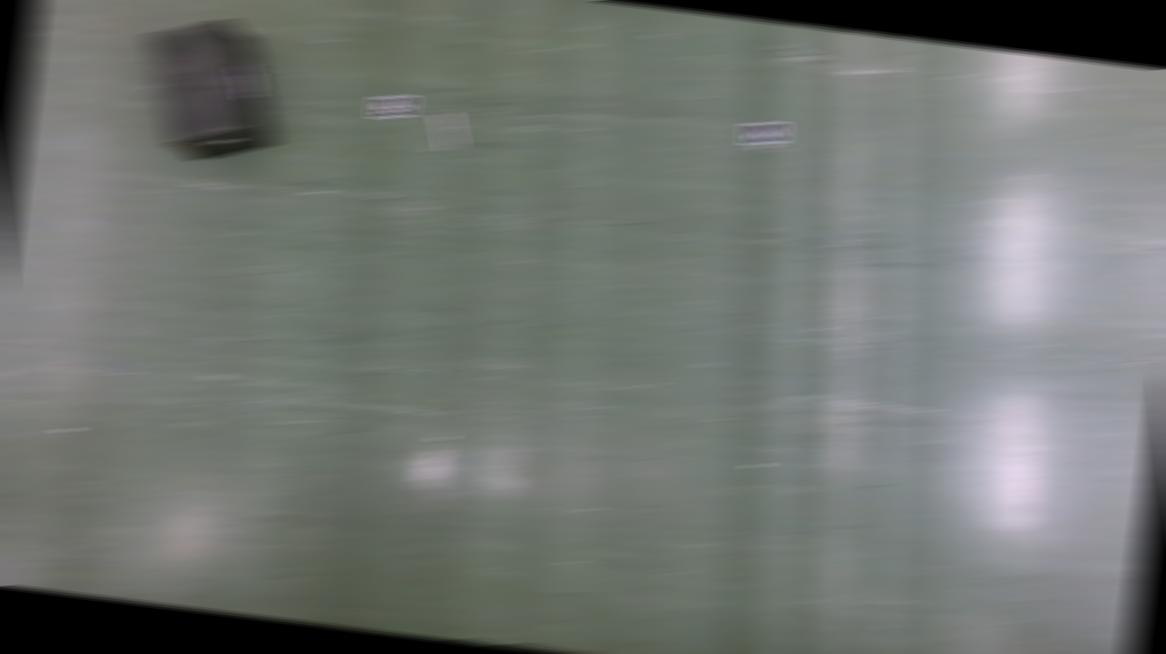probes: (434, 115, 463, 152)
rako: (130, 11, 289, 170)
